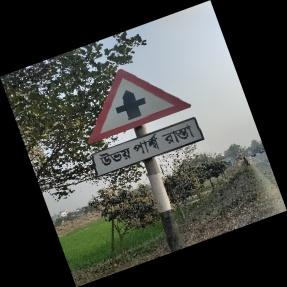Crossroad: (87, 68, 202, 182)
